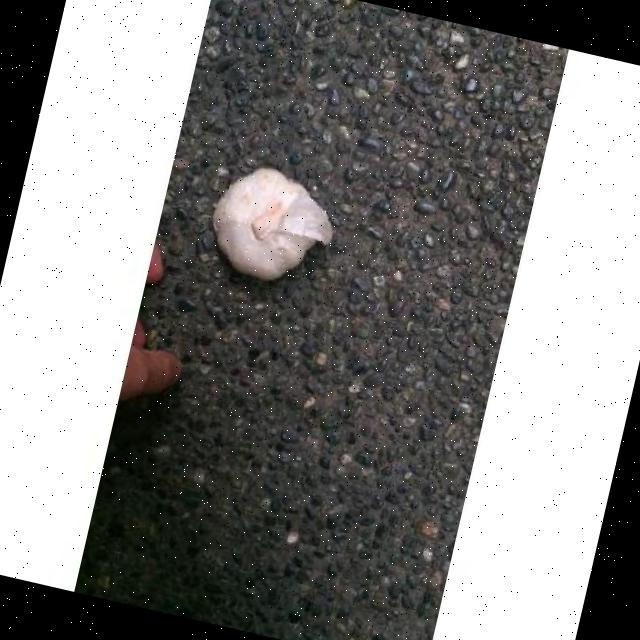garlic: (212, 167, 333, 280)
